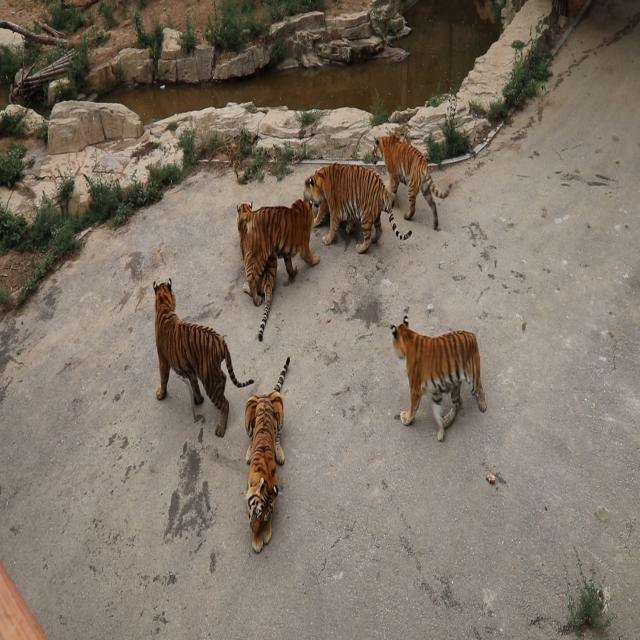Tiger: (153, 275, 255, 437), (388, 314, 489, 445), (243, 352, 290, 556), (312, 164, 412, 252), (236, 190, 317, 289), (371, 140, 453, 230), (235, 198, 277, 339), (302, 172, 328, 232)
